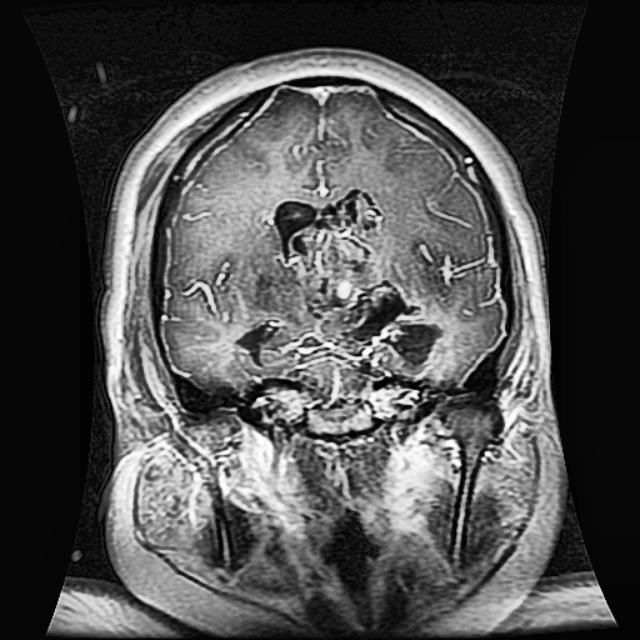Meningioma: (233, 189, 443, 383)
